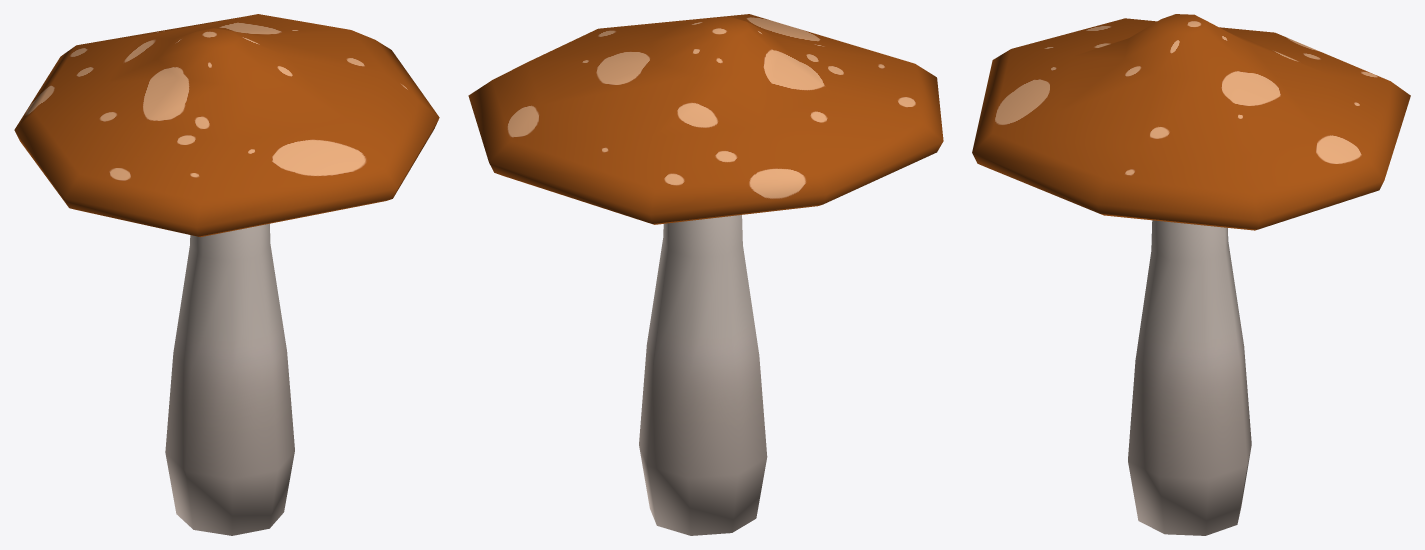
The model's file is Mushroom1.fbx.
3 renders of one model, left to right at view 1: azimuth 30°, elevation 25°; view 2: azimuth 150°, elevation 25°; view 3: azimuth 270°, elevation 25°, orthographic.
Visible parts, largest first — view 1: Cylinder.004; view 2: Cylinder.004; view 3: Cylinder.004.
Boxes of the visible parts, box(x1,y1,x2,y2) form: Cylinder.004: box(14, 14, 439, 535); Cylinder.004: box(468, 14, 943, 535); Cylinder.004: box(972, 14, 1410, 535).
Size of the model in its own units: 226 by 261 by 216.
1 material, 1 textured.
